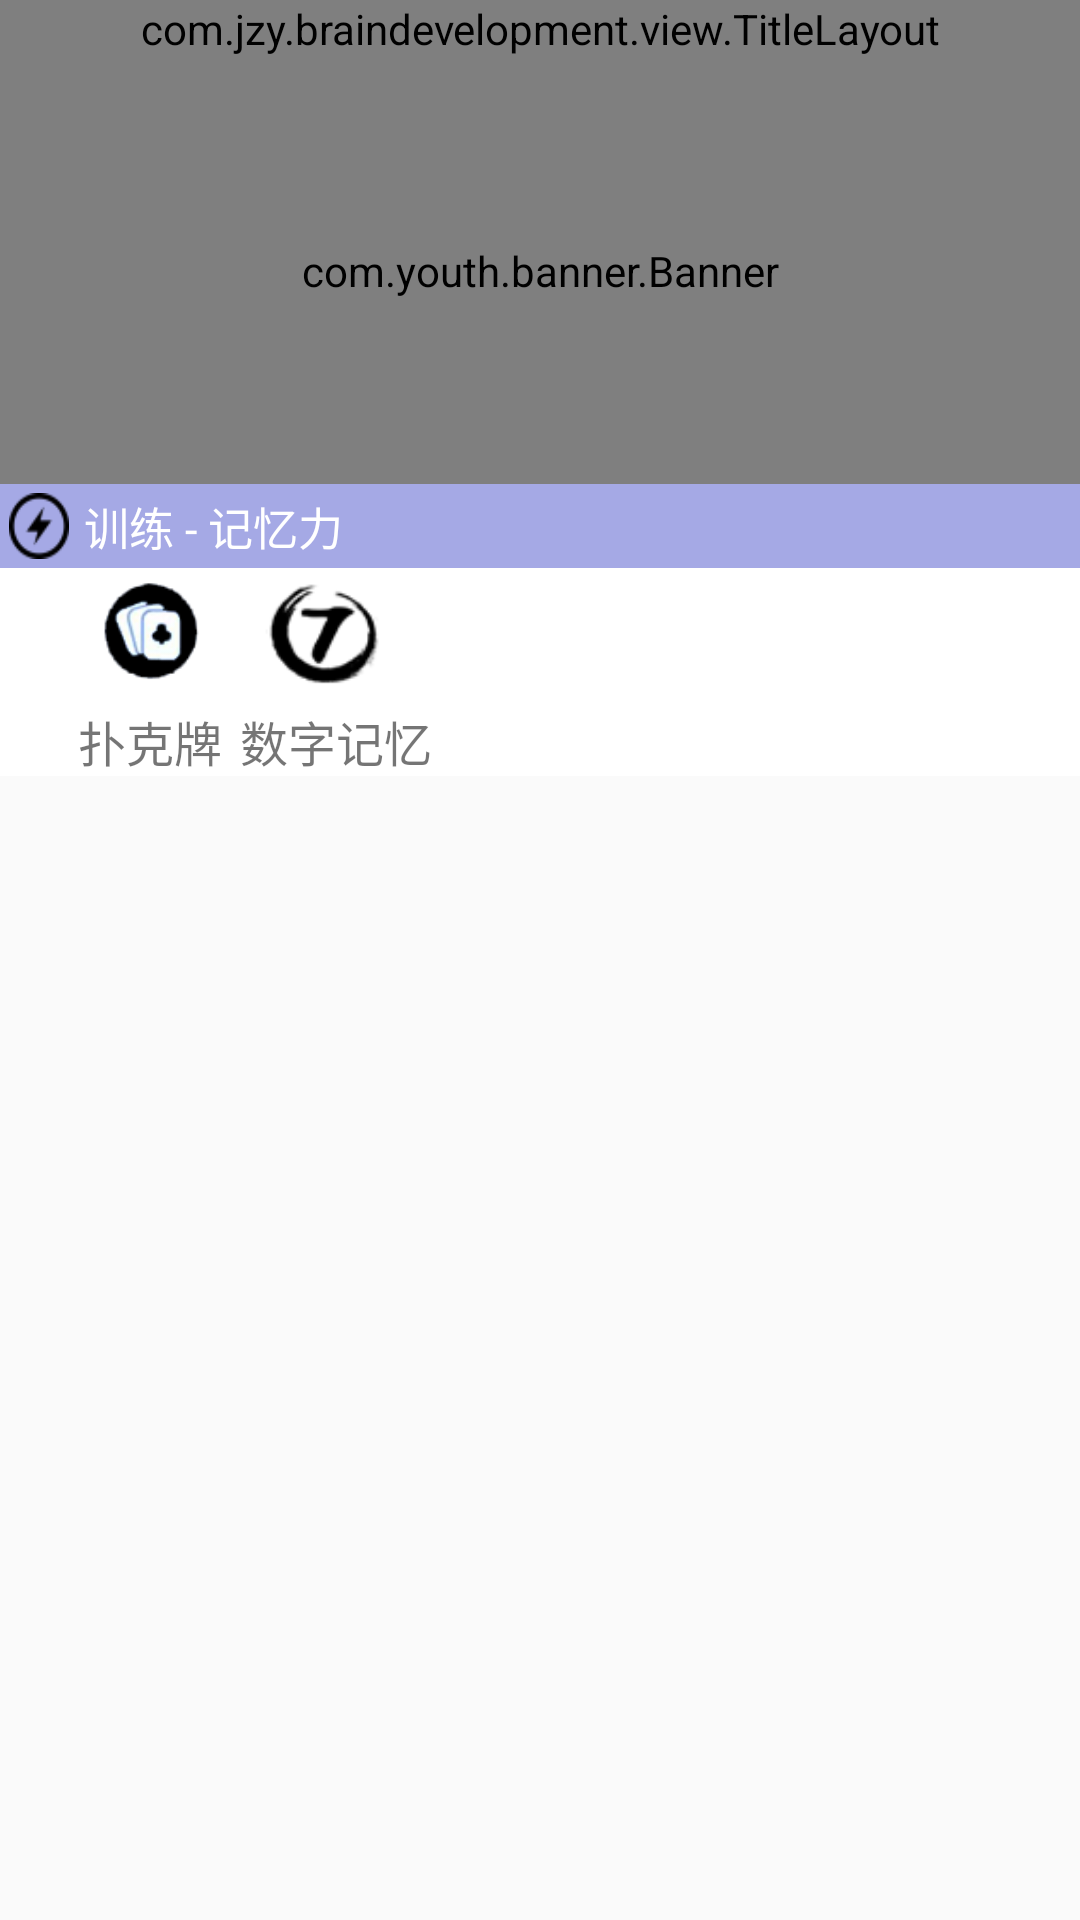

Locate icon controls on the screen. Image size 1080px×1920px, boxes as region(x1, y1, x2, y2).
figure: region(270, 585, 378, 683)
lightning: region(9, 493, 69, 559)
poker: region(104, 583, 198, 679)
